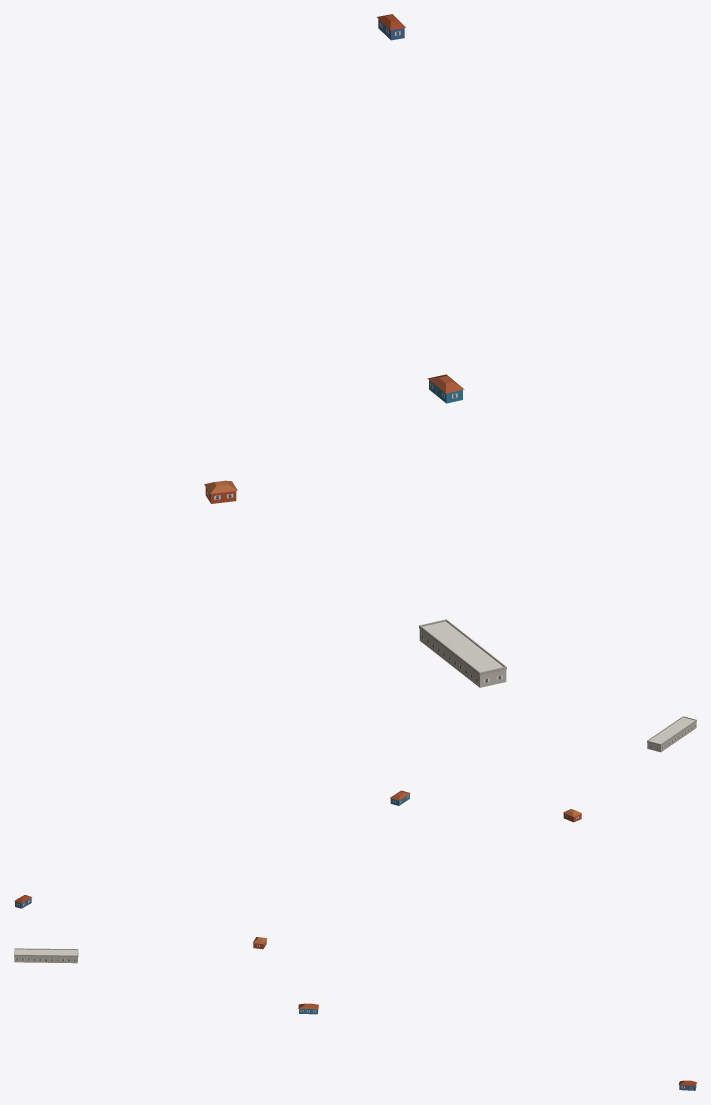
Rendered from msb_sannicolas_11_21.glb.
The picture shows the model from 3 angles, top to bottom: view 1: azimuth 30°, elevation 25°; view 2: azimuth 150°, elevation 25°; view 3: azimuth 270°, elevation 25°; orthographic projection. The views are drawn at different scales.
Visible parts, largest first — view 1: msb_sannicolas_11_21_lod0; view 2: msb_sannicolas_11_21_lod0; view 3: msb_sannicolas_11_21_lod0.
Boxes of the visible parts, left/top/right/bottom form: msb_sannicolas_11_21_lod0: left=204, top=14, right=506, bottom=687; msb_sannicolas_11_21_lod0: left=14, top=716, right=696, bottom=908; msb_sannicolas_11_21_lod0: left=14, top=937, right=696, bottom=1090.
Size of what is drawn, in the model's own units: 212 by 11.29 by 404.
3 materials, 1 textured.
